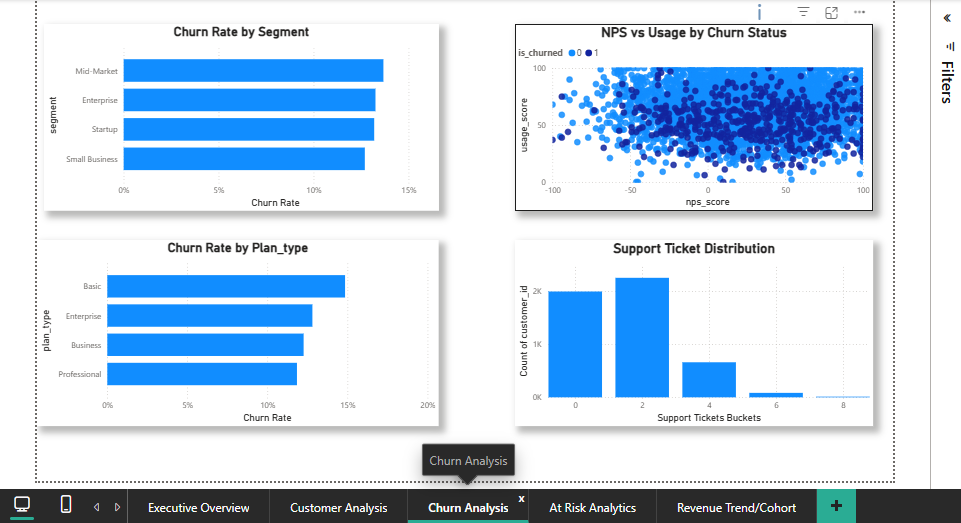

This screenshot's page, from the dashboard's own definition file:
{"tool":"powerbi","page":{"name":"Churn Analysis","canvas":[1280,720],"ordinal":2},"visuals":[{"type":"barChart","title":"Churn Rate by Segment","fields":{"Y":["saas_analytics customers.Churn Rate"],"Category":["saas_analytics customers.segment"]},"box":[10.5,37.3,590,279.3],"z":0},{"type":"barChart","title":"Churn Rate by Plan_type","fields":{"Y":["saas_analytics customers.Churn Rate"],"Category":["saas_analytics customers.plan_type"]},"box":[0,360,600.5,277.8],"z":1000},{"type":"scatterChart","title":"NPS vs Usage by Churn Status","fields":{"X":["saas_analytics customers.nps_score"],"Y":["saas_analytics customers.usage_score"],"Series":["saas_analytics customers.is_churned"]},"box":[714,37.3,534.8,279.3],"z":2000},{"type":"clusteredColumnChart","title":"Support Ticket Distribution","fields":{"Category":["saas_analytics customers.Support Tickets Buckets"],"Y":["CountNonNull(saas_analytics customers.customer_id)"]},"box":[714,360,535,278],"z":3000}]}

Visuals, with their boxes on the page's 1280x720 design canvas (x1, y1, x2, y2). These are canvas units, not pixel positions in the 961x523 screenshot, which may show the page scaled, cropped or inside an application window:
"Churn Rate by Segment" barChart: {"x1": 10, "y1": 37, "x2": 600, "y2": 317}
"Churn Rate by Plan_type" barChart: {"x1": 0, "y1": 360, "x2": 600, "y2": 638}
"NPS vs Usage by Churn Status" scatterChart: {"x1": 714, "y1": 37, "x2": 1249, "y2": 317}
"Support Ticket Distribution" clusteredColumnChart: {"x1": 714, "y1": 360, "x2": 1249, "y2": 638}
